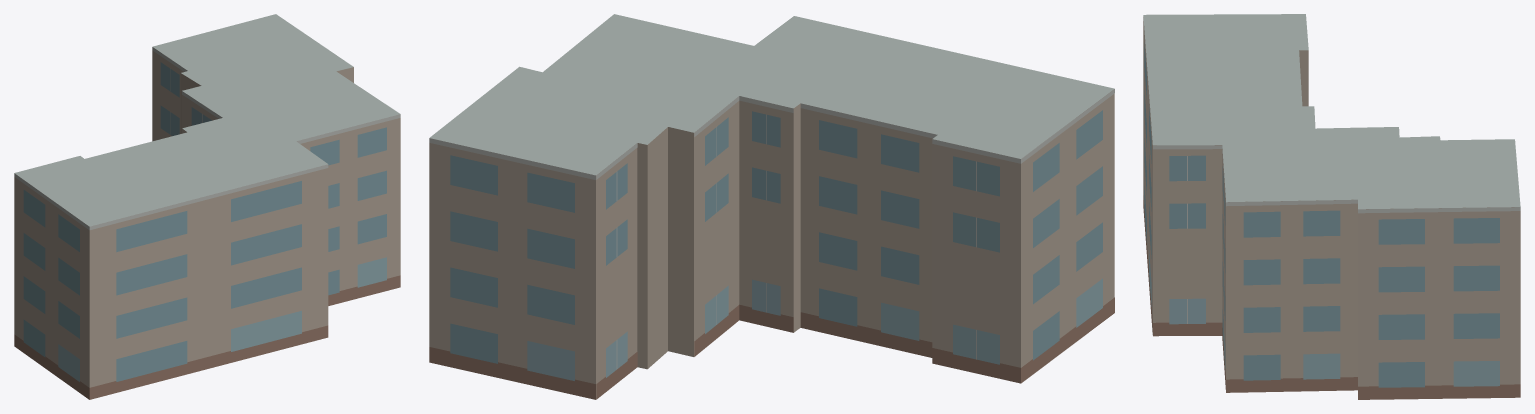
The model's file is survey-upis-32862300.glb.
The picture shows the model from 3 angles, left to right: view 1: azimuth 30°, elevation 25°; view 2: azimuth 150°, elevation 25°; view 3: azimuth 270°, elevation 25°; orthographic projection. The views are drawn at different scales.
Visible parts, largest first — view 1: survey-upis-32862300.tmp; view 2: survey-upis-32862300.tmp; view 3: survey-upis-32862300.tmp.
Boxes of the visible parts, bbox=[...] form: survey-upis-32862300.tmp: bbox=[14, 14, 400, 399]; survey-upis-32862300.tmp: bbox=[429, 14, 1114, 399]; survey-upis-32862300.tmp: bbox=[1143, 14, 1520, 399].
Bounding box in the file's own units: 25.48 × 11.6 × 20.81.
